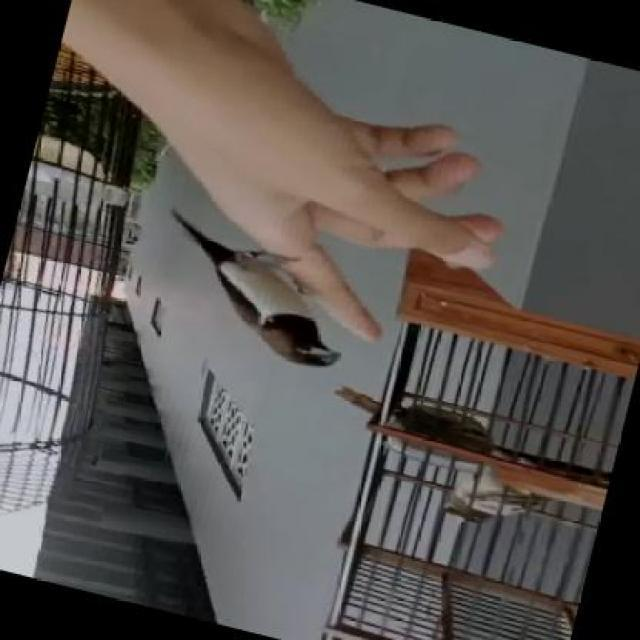Bird: (162, 202, 334, 384)
